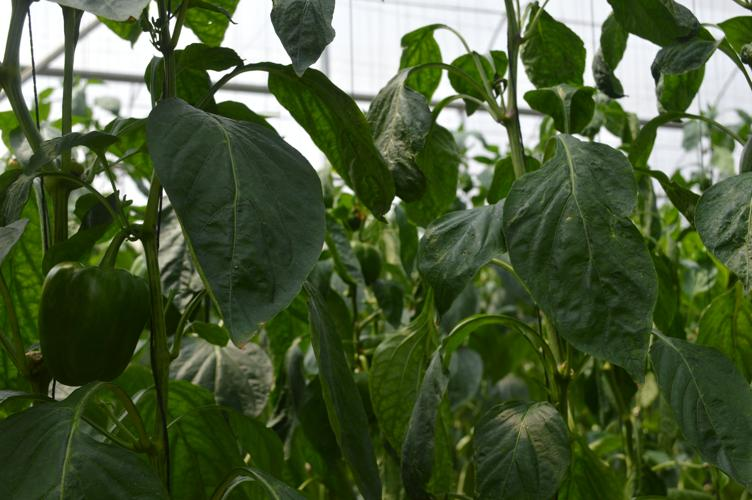BellPepper: (35, 266, 154, 381)
